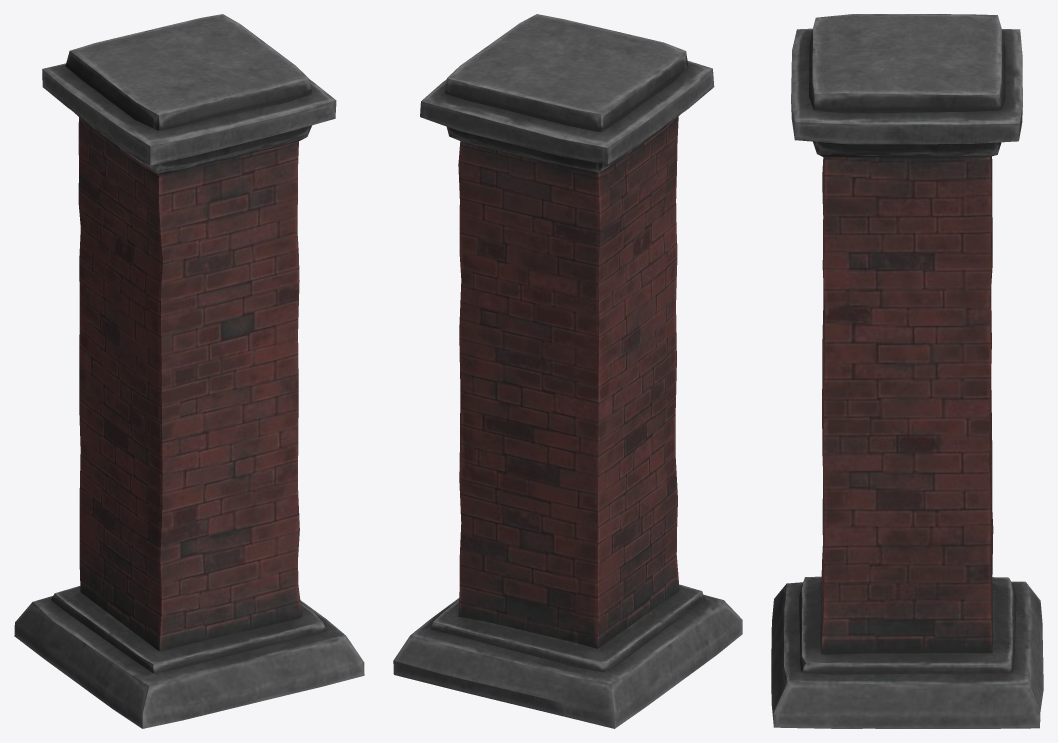
Rendered from brick_column.glb.
3 renders of one model, left to right at view 1: azimuth 30°, elevation 25°; view 2: azimuth 150°, elevation 25°; view 3: azimuth 270°, elevation 25°, orthographic. The views are drawn at different scales.
Visible parts, largest first — view 1: column01_low; view 2: column01_low; view 3: column01_low.
Part boxes in pixels (bbox=[...]): column01_low: bbox=[14, 14, 364, 728]; column01_low: bbox=[393, 14, 742, 728]; column01_low: bbox=[771, 14, 1043, 728].
Size of the model in its own units: 0.4877 by 1.23 by 0.4871.
Materials: 1 (1 with a texture image).
